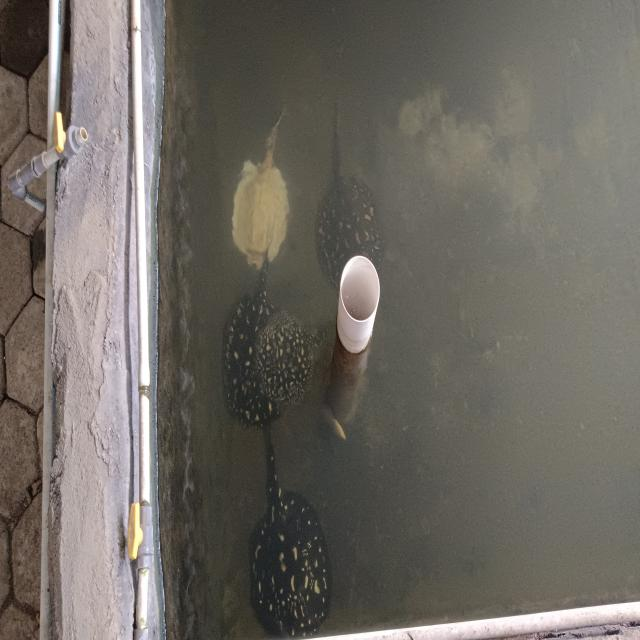albino-sting-ray: (220, 94, 302, 272)
black-diamond-sting-ray: (231, 436, 343, 632), (210, 283, 324, 438), (315, 84, 384, 288)
